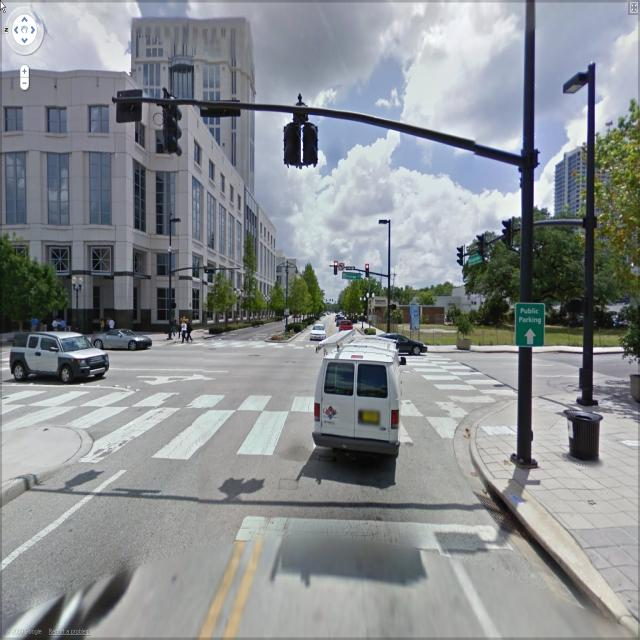b_1: (0, 67, 242, 326), (128, 20, 258, 197)
b_2: (551, 129, 629, 262), (232, 240, 322, 323)
